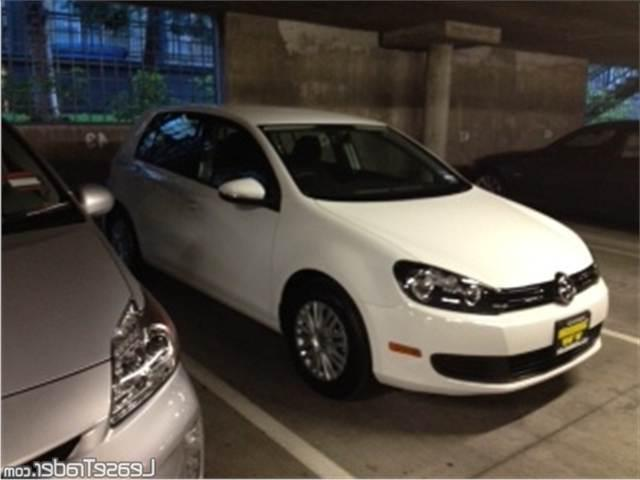Car: (92, 96, 615, 414), (2, 111, 219, 480)
